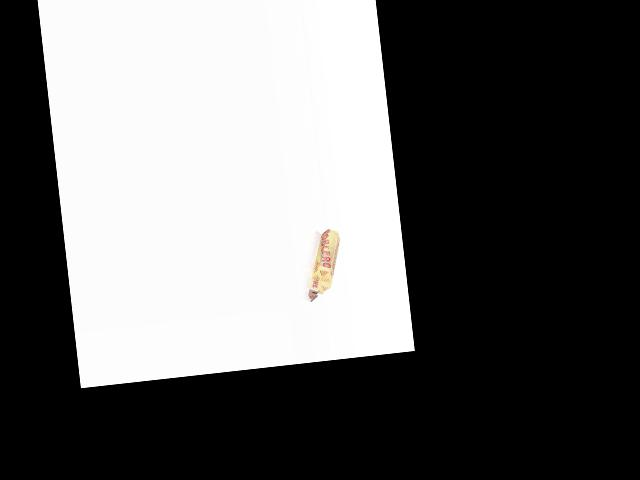chocolate: (298, 228, 347, 302)
